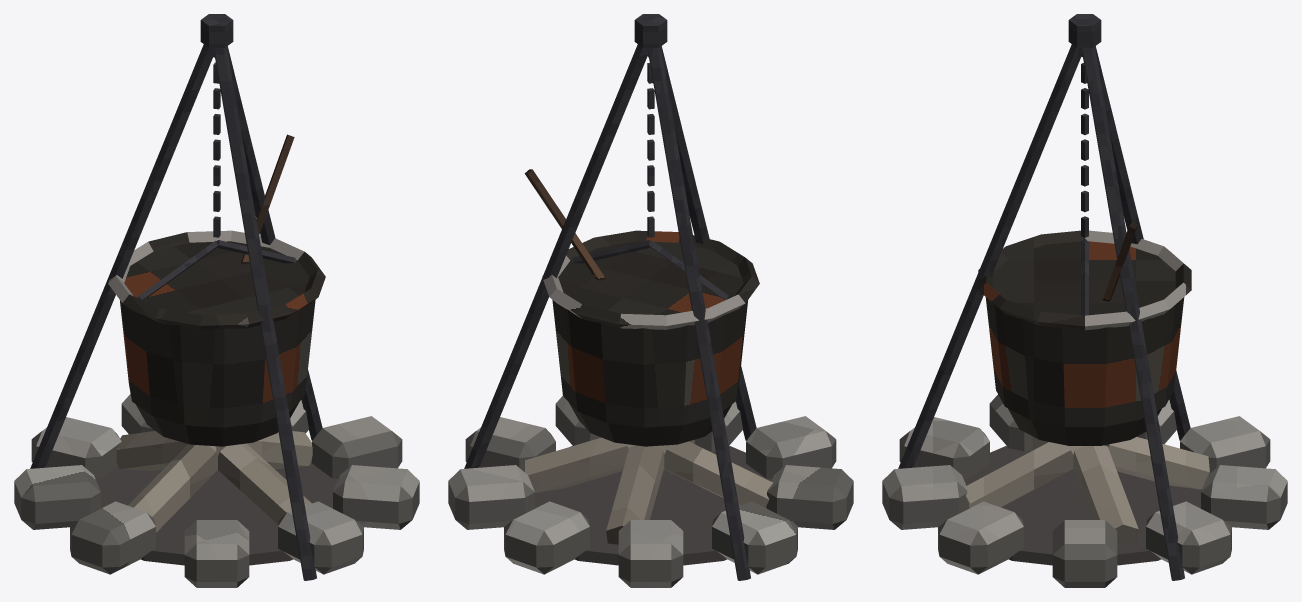
File: hearth_cauldron_off.obj
The picture shows the model from 3 angles, left to right: view 1: azimuth 30°, elevation 25°; view 2: azimuth 150°, elevation 25°; view 3: azimuth 270°, elevation 25°; orthographic projection.
Visible parts, largest first — view 1: hearth_cauldron; view 2: hearth_cauldron; view 3: hearth_cauldron.
Boxes of the visible parts, bbox=[...] form: hearth_cauldron: bbox=[14, 14, 419, 587]; hearth_cauldron: bbox=[448, 14, 853, 587]; hearth_cauldron: bbox=[882, 14, 1287, 587].
Size of the model in its own units: 0.9869 by 1.34 by 1.
